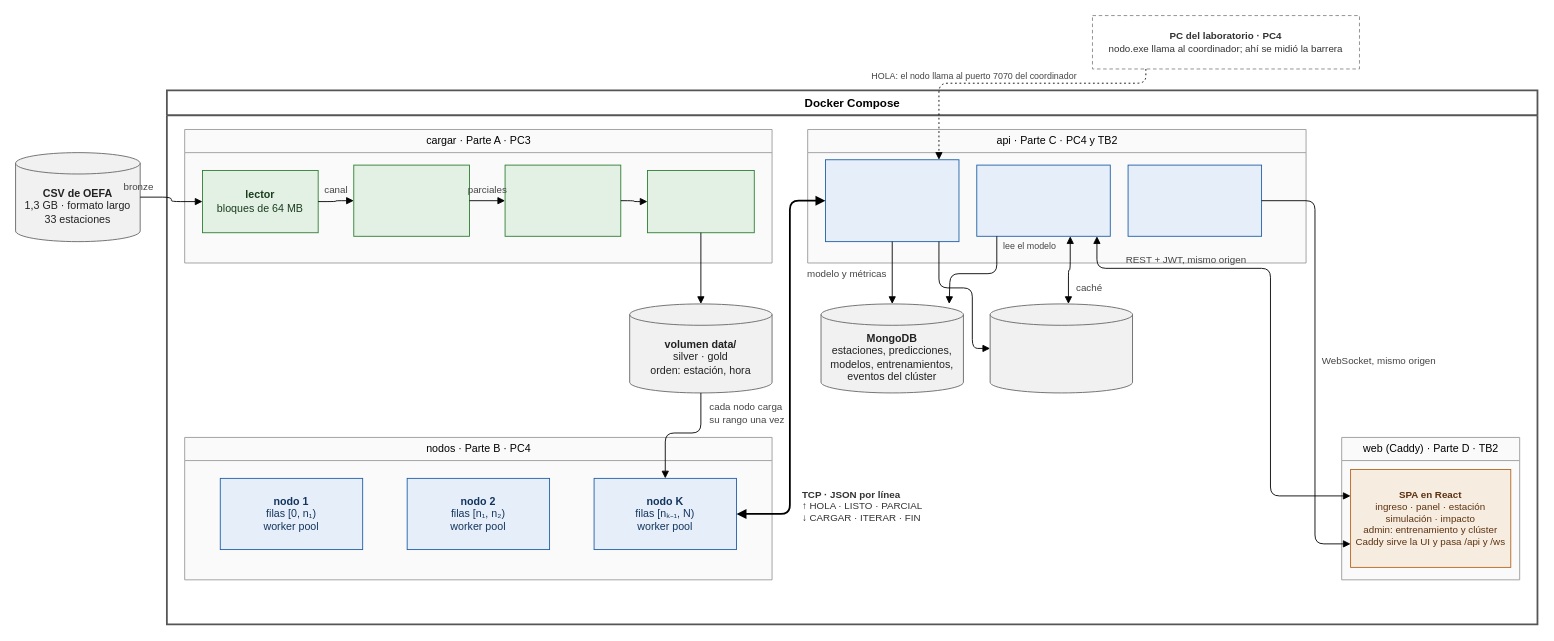
This 1554x641 diagram has some shape labels left out. Here are the shapes that lost their labels. From the top down, the centre of each, then its label:
(x=411, y=200): W workers reglas 1–6 pivot por bloque
(x=562, y=200): recolector fusión en orden de bloque
(x=700, y=201): z-score Welford + Chan
(x=892, y=200): coordinador pool de nodos en :7070 barrera con plazo fusión en orden de nodo
(x=1043, y=200): REST + JWT predicción en memoria en < 100 ms (no pasa por el clúster)
(x=1194, y=200): WebSocket estado de estaciones rondas del entrenamiento
(x=1061, y=348): Redis último estado por estación, modelo activo, punto de control
